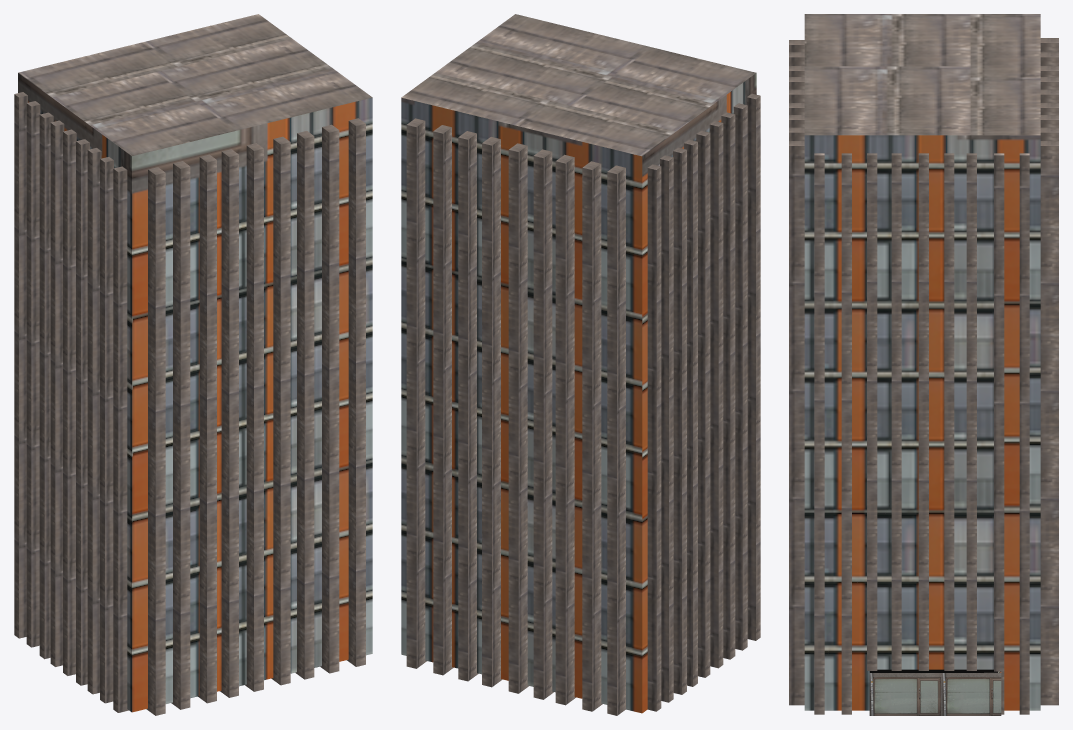
File: LargeBuilding_Medium.fbx
3 renders of one model, left to right at view 1: azimuth 30°, elevation 25°; view 2: azimuth 150°, elevation 25°; view 3: azimuth 270°, elevation 25°, orthographic. The views are drawn at different scales.
Visible parts, largest first — view 1: polySurface145; view 2: polySurface145; view 3: polySurface145.
Part boxes in pixels (x1,y1,x2,y2): polySurface145: (14,14,372,715); polySurface145: (401,14,760,715); polySurface145: (789,14,1058,715).
Size of the model in its own units: 14.3 by 29.73 by 12.6.
